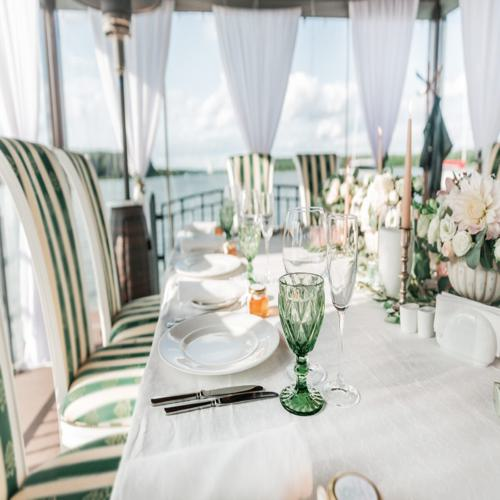copa: (328, 215, 366, 412), (279, 274, 328, 417), (286, 207, 330, 329), (239, 220, 265, 286)
